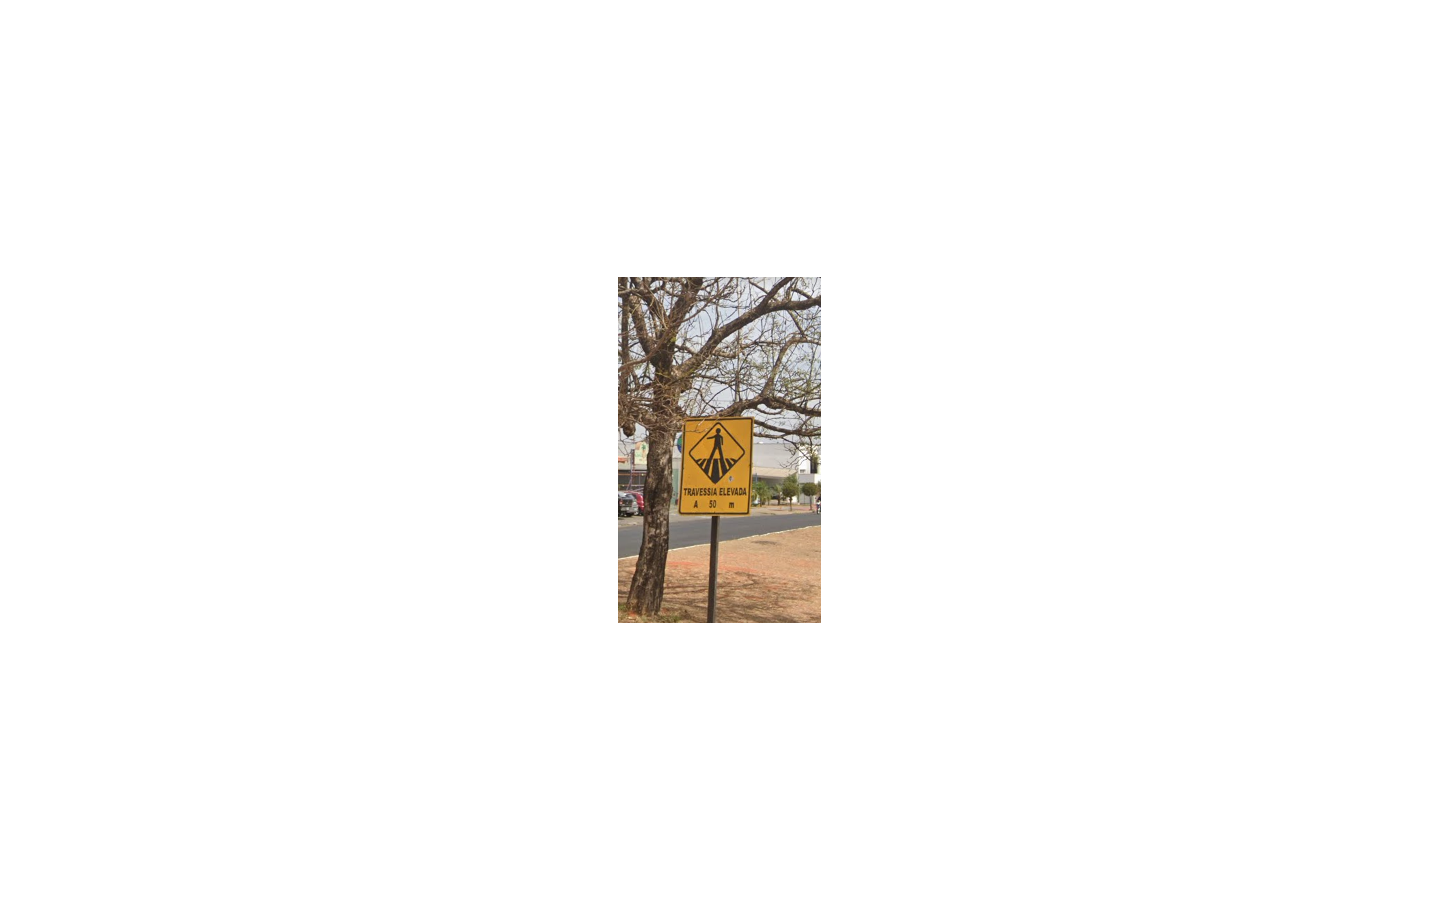t50m: (678, 416, 754, 516)
